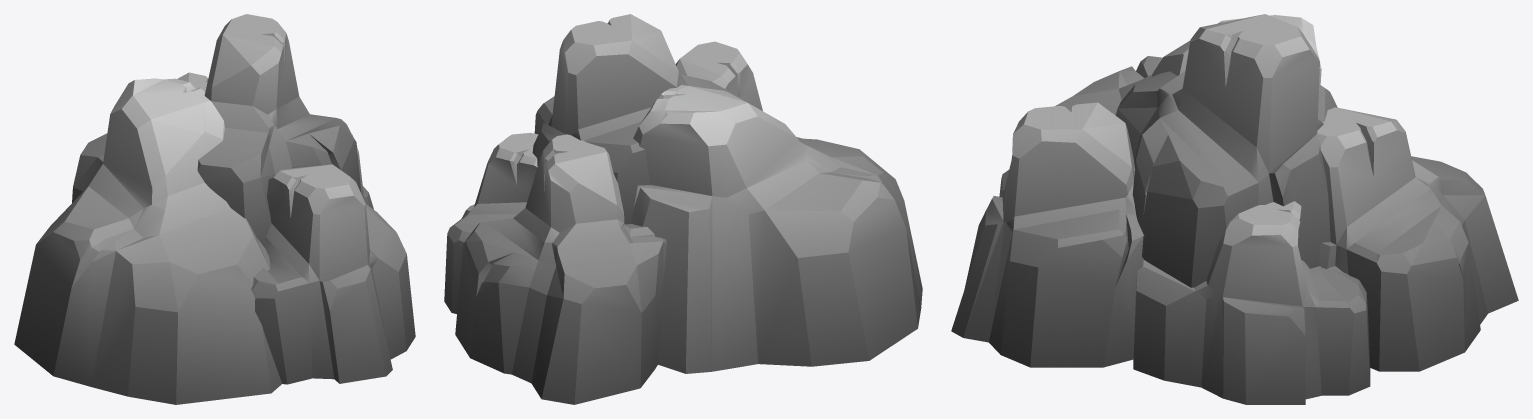
File: SM_RockFormation2.fbx
3 views of the same model, side by side, from view 1: azimuth 30°, elevation 25°; view 2: azimuth 150°, elevation 25°; view 3: azimuth 270°, elevation 25° (orthographic). The views are drawn at different scales.
Parts seen in each view (by area): view 1: RockFormation2; view 2: RockFormation2; view 3: RockFormation2.
Part boxes in pixels (x1,y1,x2,y2): RockFormation2: [14, 14, 415, 404]; RockFormation2: [444, 14, 922, 404]; RockFormation2: [951, 14, 1518, 404].
Size of the model in its own units: 490 by 316 by 541.
